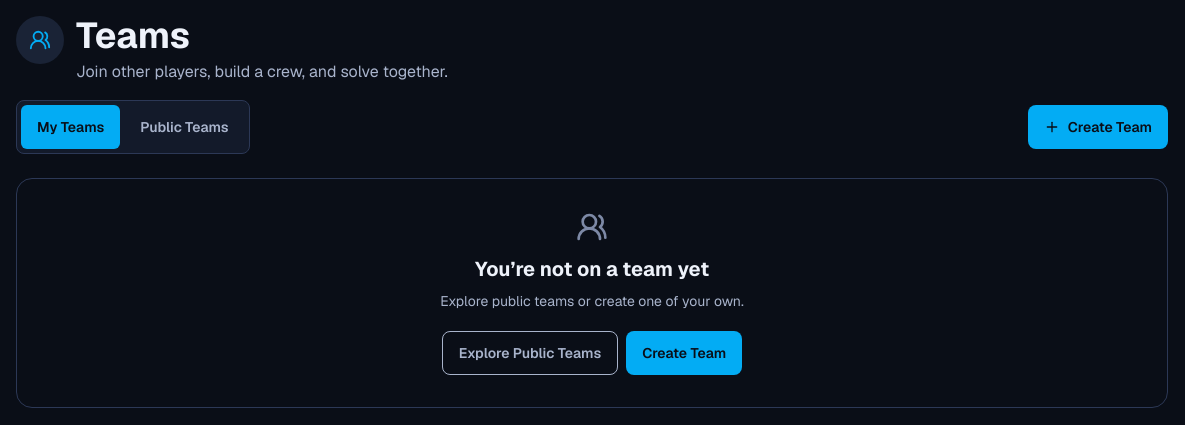
Teams hub page — normalization › 23. blank names use the fallback; 24. missing descriptions use the fallback
This screenshot has width=1185, height=425.
Step 1. Click the button with test id "teams-hub-view-public" → (184, 127), box [124,105,244,149]
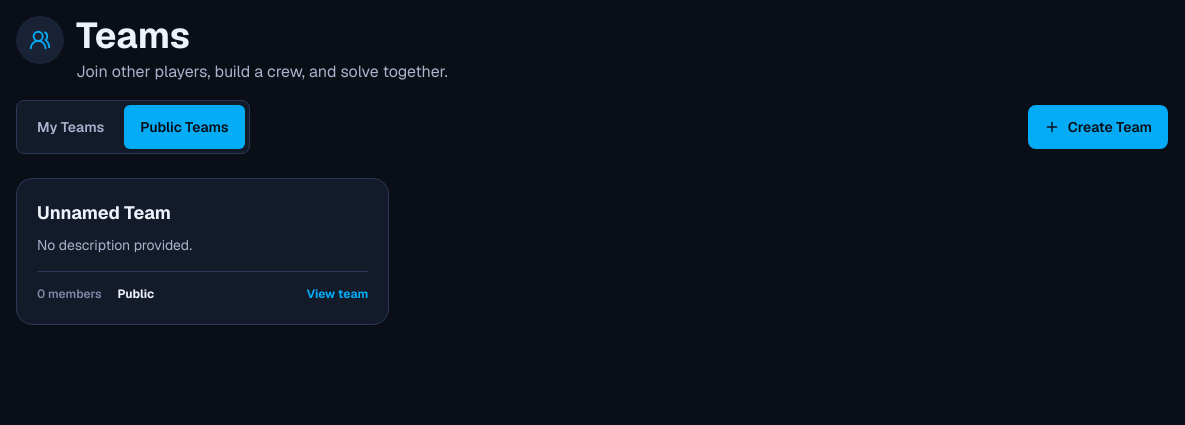
Result: the heading "Unnamed Team" is shown at [37,201,171,224]
Result: the text "No description provided." is shown at [37,236,192,254]
